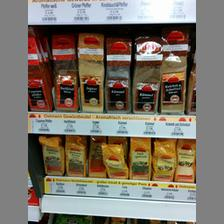Gewuerze: (158, 31, 186, 111), (76, 33, 104, 111), (50, 34, 78, 110), (104, 38, 132, 112), (132, 36, 158, 111), (26, 30, 50, 110), (38, 135, 66, 175), (100, 141, 128, 177), (64, 136, 88, 176), (152, 138, 174, 178), (175, 138, 195, 182), (130, 138, 150, 178)
